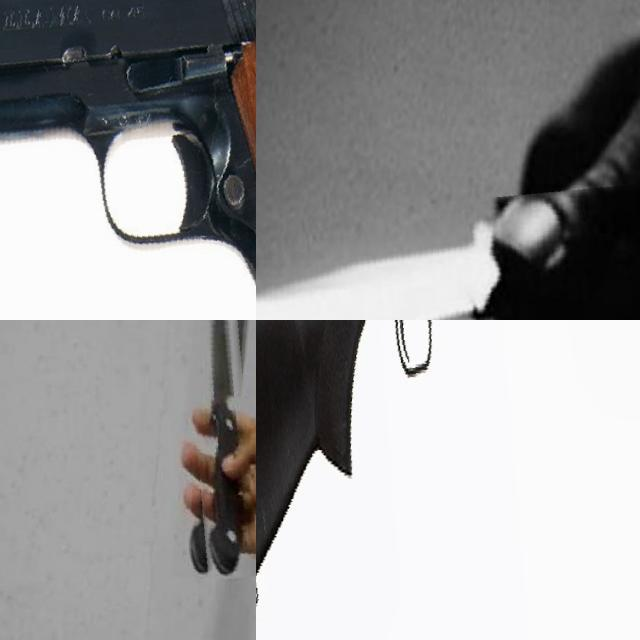-: (256, 151, 640, 320), (178, 320, 256, 575)
gun-knife-thesis - v11 Yolov5 augmented: (256, 320, 640, 640), (0, 0, 256, 320)
